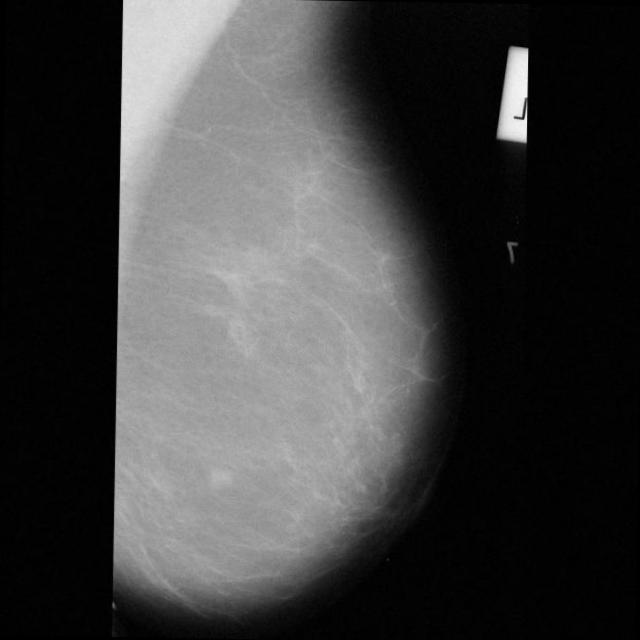CALC: (226, 312, 273, 360)
